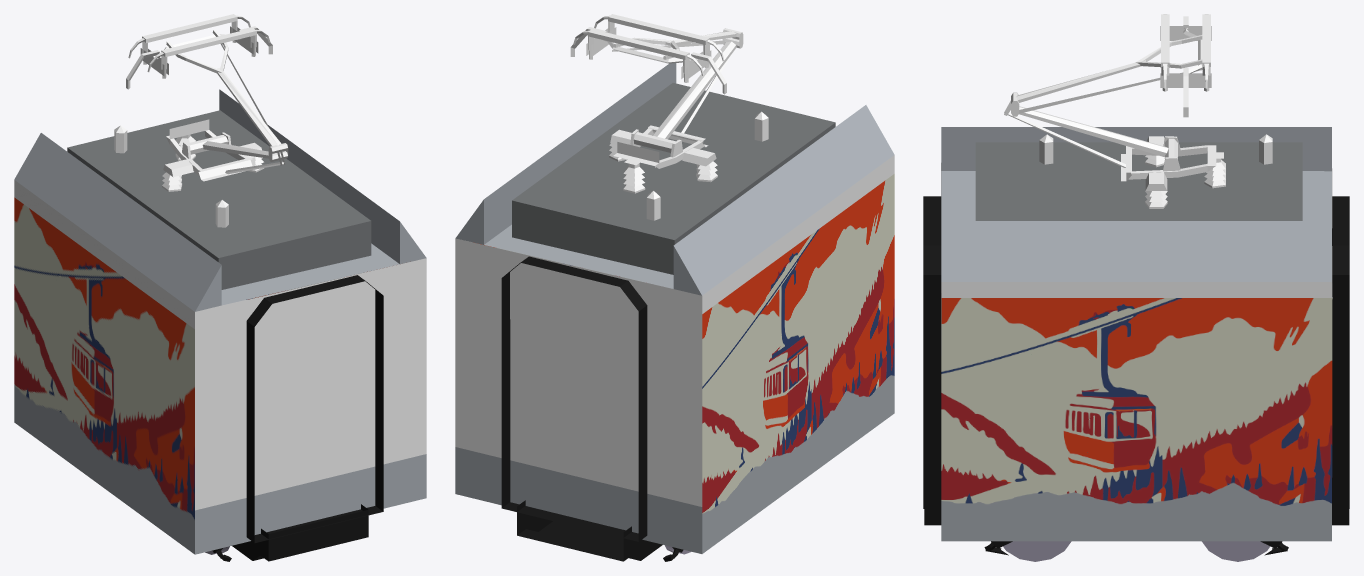
File: tatra2.glb
3 renders of one model, left to right at view 1: azimuth 30°, elevation 25°; view 2: azimuth 150°, elevation 25°; view 3: azimuth 270°, elevation 25°, orthographic. The views are drawn at different scales.
Visible parts, largest first — view 1: Mittelwagen.001; view 2: Mittelwagen.001; view 3: Mittelwagen.001, Rad_2.001.
Part boxes in pixels (x1,y1,x2,y2): Mittelwagen.001: (14,14,426,561); Mittelwagen.001: (455,14,894,561); Mittelwagen.001: (923,14,1349,555); Rad_2.001: (1003,541,1270,561).
Bounding box in the file's own units: 2.86 × 5.34 × 4.21.
Materials: 8 (1 with a texture image).
